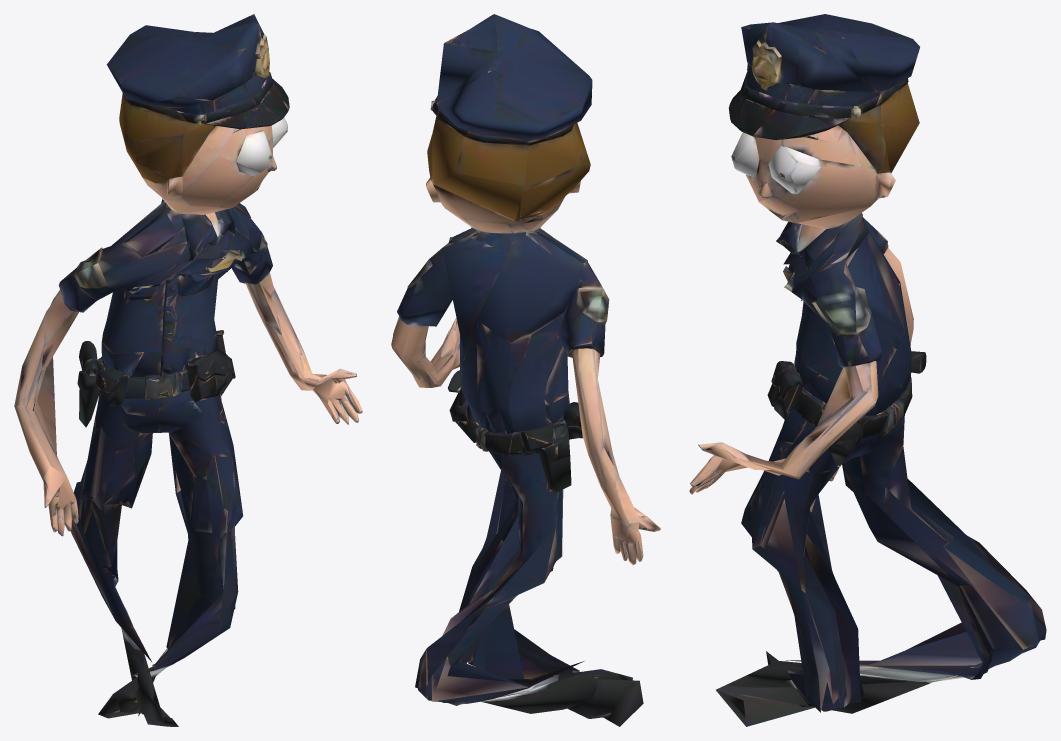
The model's file is copmorty.glb.
3 views of the same model, side by side, from view 1: azimuth 30°, elevation 25°; view 2: azimuth 150°, elevation 25°; view 3: azimuth 270°, elevation 25° (orthographic). The views are drawn at different scales.
Visible parts, largest first — view 1: char1; view 2: char1; view 3: char1.
Part boxes in pixels (box(x1,y1,x2,y2)): char1: box(14, 14, 362, 726); char1: box(391, 14, 660, 726); char1: box(689, 14, 1046, 726).
Bounding box in the file's own units: 4944962 × 1.22e+07 × 5254464.
1 material, 1 textured.
